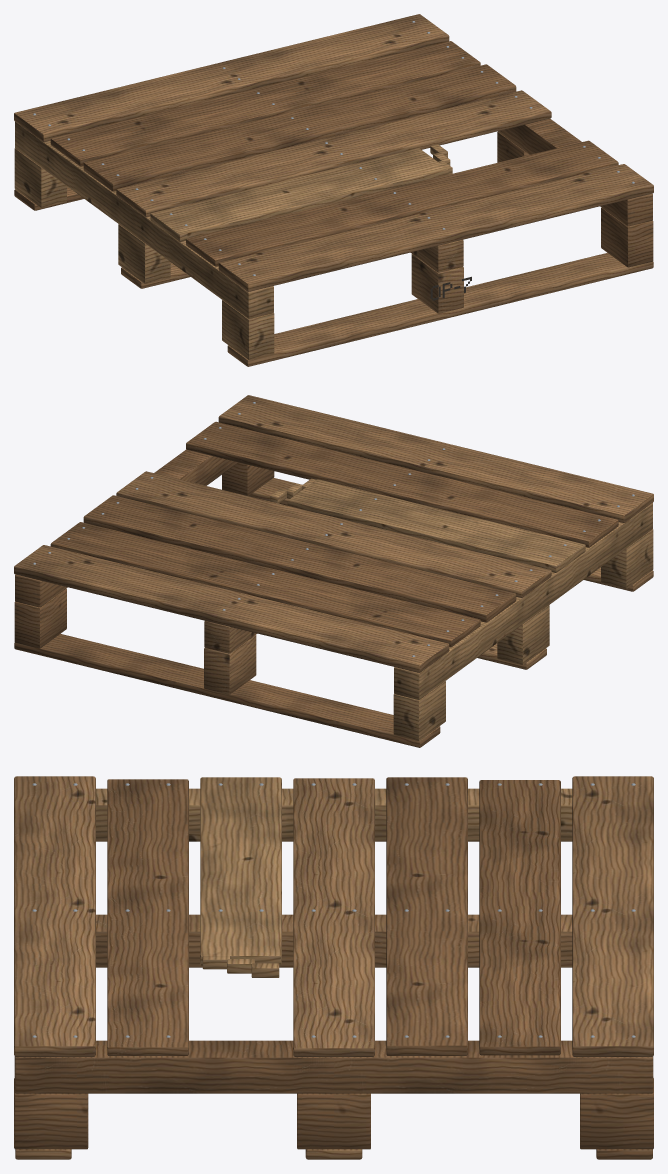
The model's file is pallet.glb.
3 renders of one model, top to bottom at view 1: azimuth 30°, elevation 25°; view 2: azimuth 150°, elevation 25°; view 3: azimuth 270°, elevation 25°, orthographic. The views are drawn at different scales.
Parts seen in each view (by area): view 1: PalletBody; view 2: PalletBody; view 3: PalletBody.
Boxes of the visible parts, box(x1,y1,x2,y2) form: PalletBody: box(14, 14, 653, 366); PalletBody: box(14, 395, 653, 747); PalletBody: box(14, 776, 653, 1159).
Bounding box in the file's own units: 1.24 × 0.2477 × 1.24.
5 materials, 4 textured.
